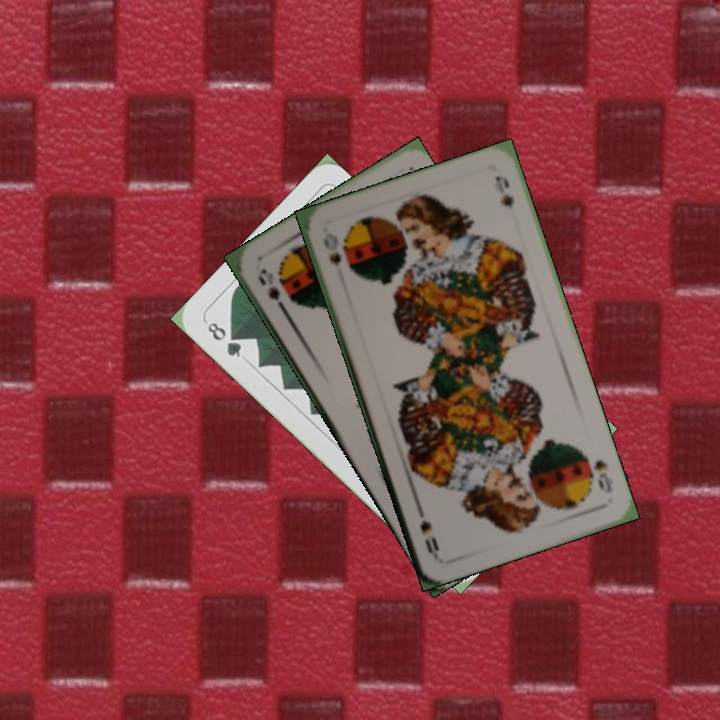G8: (203, 317, 245, 360)
SO: (253, 264, 291, 318), (581, 451, 616, 496), (319, 228, 344, 268)
